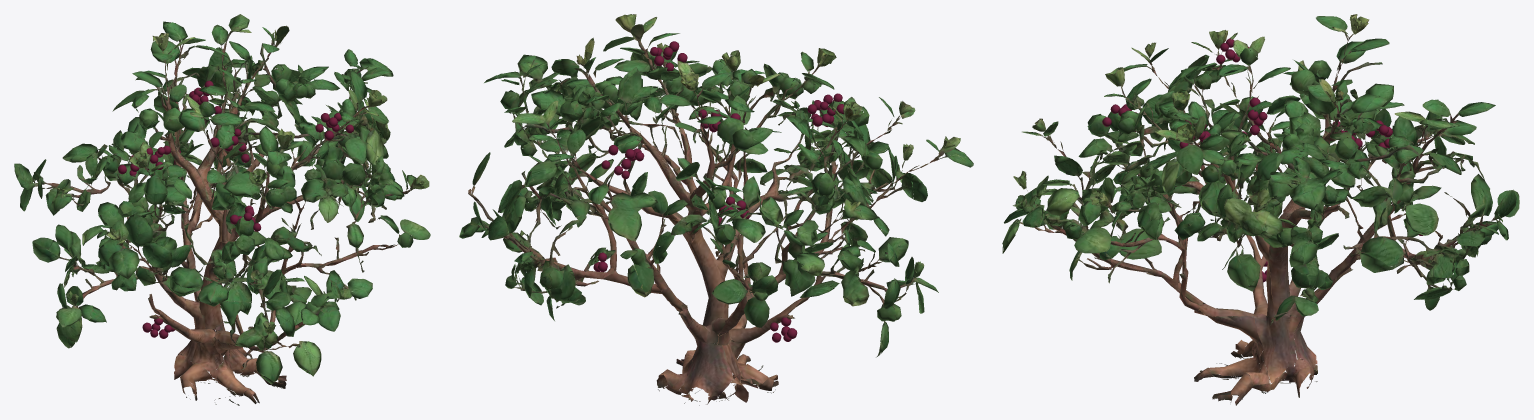
File: bush-berries-a.glb
The picture shows the model from 3 angles, left to right: view 1: azimuth 30°, elevation 25°; view 2: azimuth 150°, elevation 25°; view 3: azimuth 270°, elevation 25°; orthographic projection. The views are drawn at different scales.
Parts seen in each view (by area): view 1: bush_berries_a; view 2: bush_berries_a; view 3: bush_berries_a.
Part boxes in pixels (box(x1,y1,x2,y2)): bush_berries_a: box(14, 14, 430, 405); bush_berries_a: box(459, 14, 973, 405); bush_berries_a: box(1002, 14, 1519, 405).
Size of the model in its own units: 2.19 by 1.8 by 2.39.
Materials: 2 (1 with a texture image).
